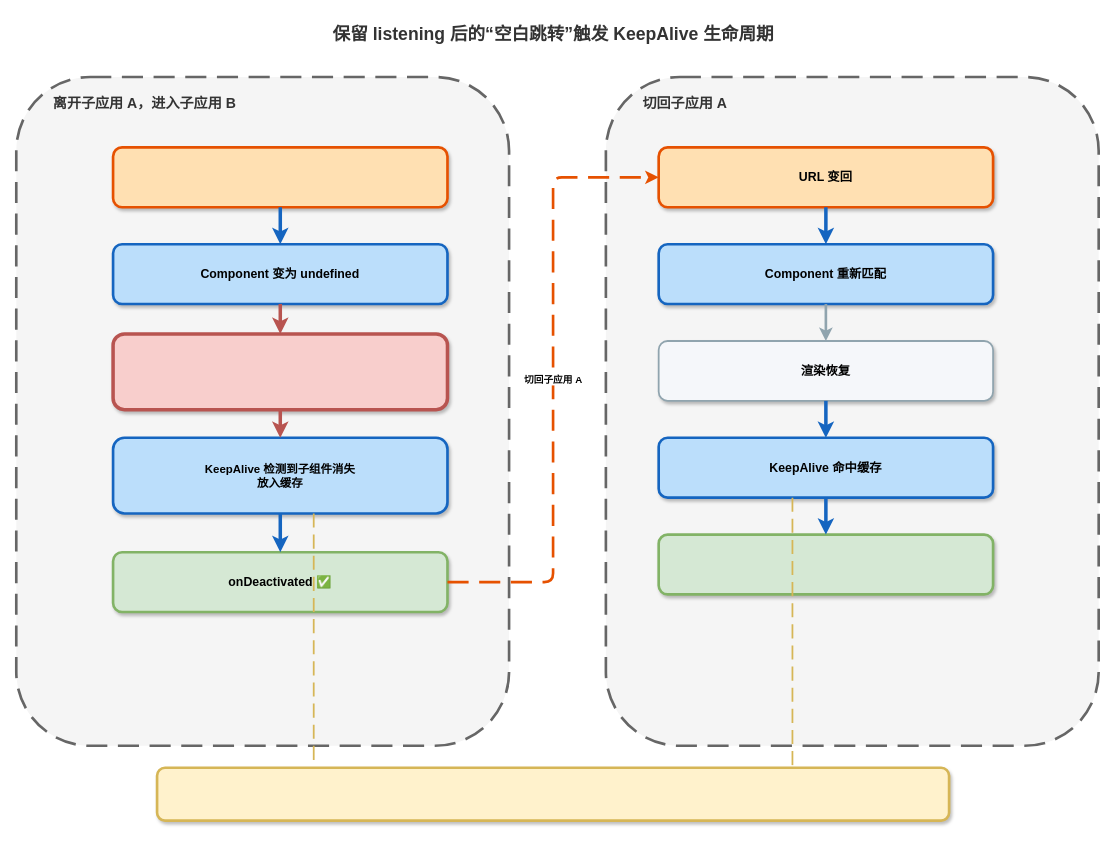
This 1115x843 diagram has some shape labels left out. The centre of each missing label's shape, as x and y in pixels:
"onActivated ✅" goes at point 826,565.
"URL 变更" goes at point 281,178.
"关键条件：RouterView 发生“有 → 无 → 有”的组件切换，KeepAlive 才能完整触发 deactivate → activate" goes at point 553,795.
"页面空白 （不渲染任何页面）" goes at point 280,372.
